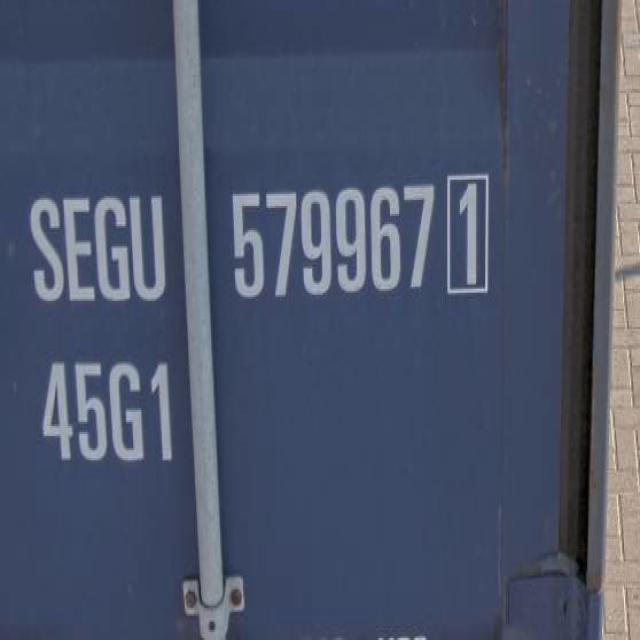dv: (442, 163, 499, 309)
owner: (27, 162, 174, 326)
serial: (225, 163, 436, 307)
size: (28, 348, 179, 483)
